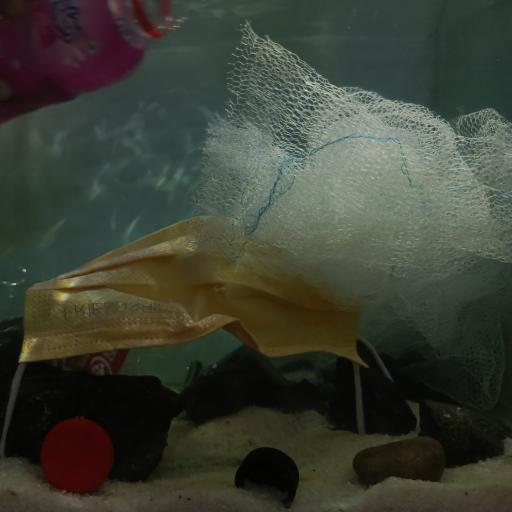bottle_cap: (40, 417, 115, 494), (234, 446, 300, 505)
mask: (8, 215, 373, 389)
net: (190, 24, 512, 413)
plastic_bottle: (0, 264, 203, 386), (0, 0, 191, 127)
